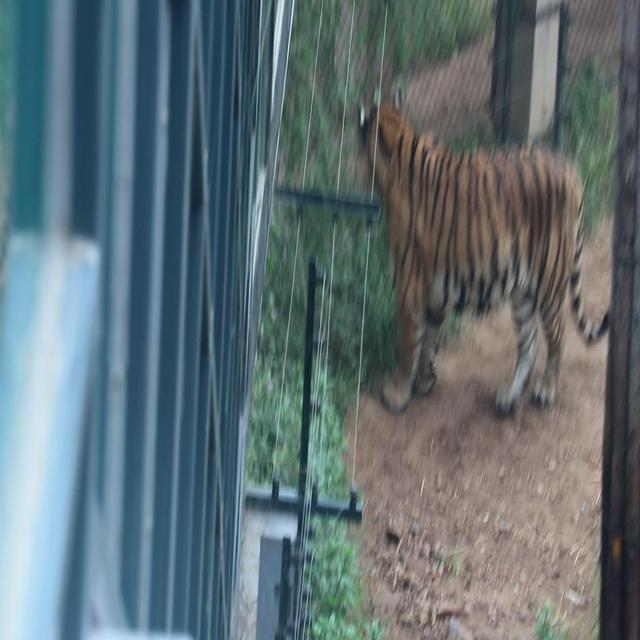tiger: (356, 98, 609, 420)
